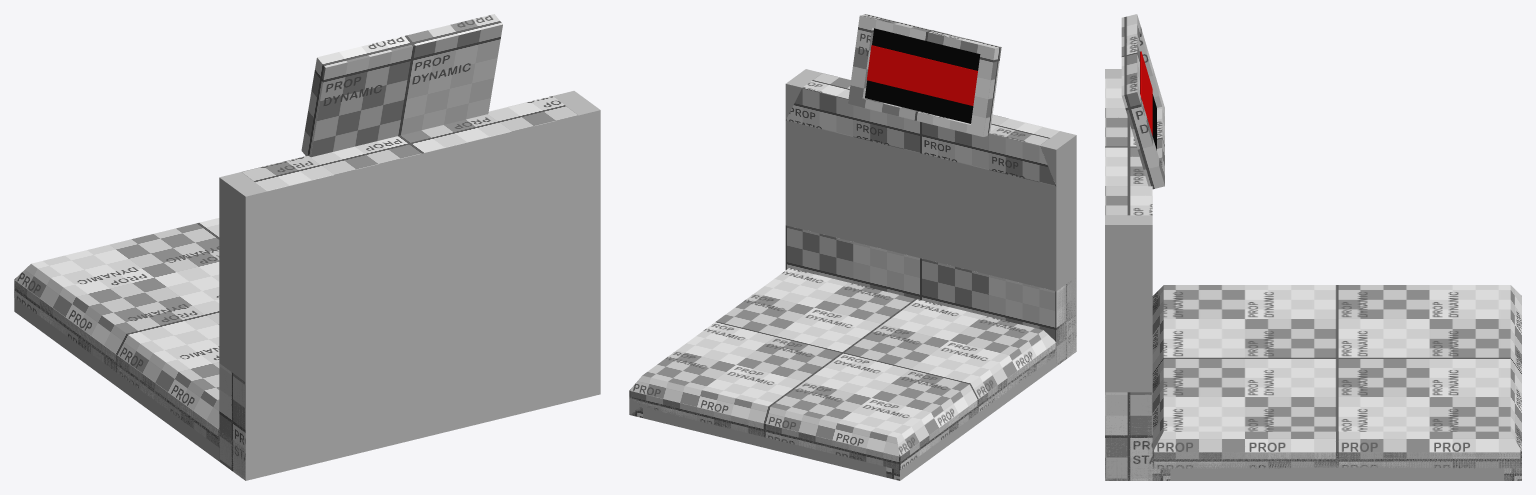
The model's file is LM_PressurePlate.fbx.
The picture shows the model from 3 angles, left to right: view 1: azimuth 30°, elevation 25°; view 2: azimuth 150°, elevation 25°; view 3: azimuth 270°, elevation 25°; orthographic projection. The views are drawn at different scales.
Visible parts, largest first — view 1: Col_1, Plate_GFX, Monitor, Back_1, Col, Peg, Back; view 2: Plate_GFX, Col_1, Back, Back_1, Monitor, Col, Peg, Meter; view 3: Plate_GFX, Col, Col_1, Peg, Monitor, Back_1, Back, Meter.
Part boxes in pixels (<box>): Col_1: <box>219,91,600,480</box>; Plate_GFX: <box>14,218,219,429</box>; Monitor: <box>301,14,502,157</box>; Back_1: <box>241,96,578,191</box>; Col: <box>14,280,245,479</box>; Peg: <box>14,281,219,447</box>; Back: <box>219,363,245,480</box>; Plate_GFX: <box>629,268,1055,456</box>; Col_1: <box>785,69,1076,362</box>; Back: <box>785,225,1076,364</box>; Back_1: <box>786,73,1059,186</box>; Monitor: <box>848,14,1001,136</box>; Col: <box>629,329,1076,480</box>; Peg: <box>629,343,1056,470</box>; Meter: <box>867,45,977,105</box>; Plate_GFX: <box>1152,285,1521,452</box>; Col: <box>1105,452,1521,480</box>; Col_1: <box>1105,69,1152,480</box>; Peg: <box>1152,452,1521,468</box>; Monitor: <box>1121,14,1164,189</box>; Back_1: <box>1105,78,1152,215</box>; Back: <box>1105,392,1152,480</box>; Meter: <box>1140,51,1152,135</box>.
Bounding box in the file's own units: 200 × 209 × 226.
